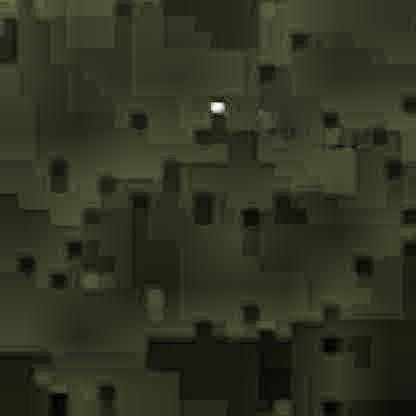golfball: (206, 98, 223, 113)
